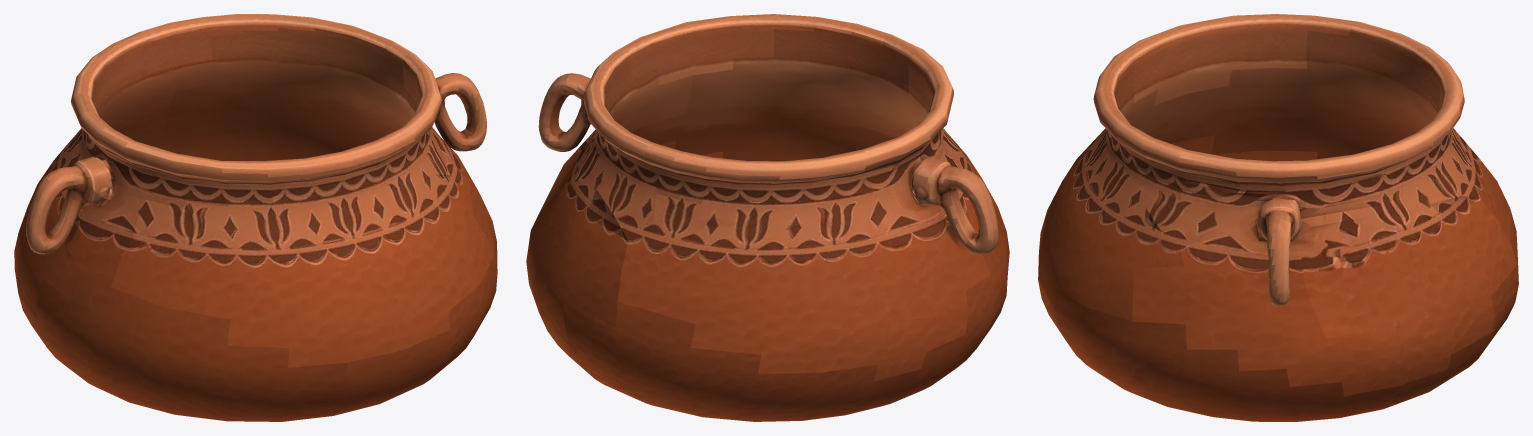
The model's file is kazan.glb.
The picture shows the model from 3 angles, left to right: view 1: azimuth 30°, elevation 25°; view 2: azimuth 150°, elevation 25°; view 3: azimuth 270°, elevation 25°; orthographic projection.
Parts seen in each view (by area): view 1: Mesh0; view 2: Mesh0; view 3: Mesh0.
Boxes of the visible parts, x1=… form: Mesh0: x1=14, y1=14, x2=497, y2=421; Mesh0: x1=526, y1=14, x2=1009, y2=421; Mesh0: x1=1038, y1=14, x2=1518, y2=421.
Bounding box in the file's own units: 1.89 × 1.01 × 1.73.
Materials: 1 (1 with a texture image).
